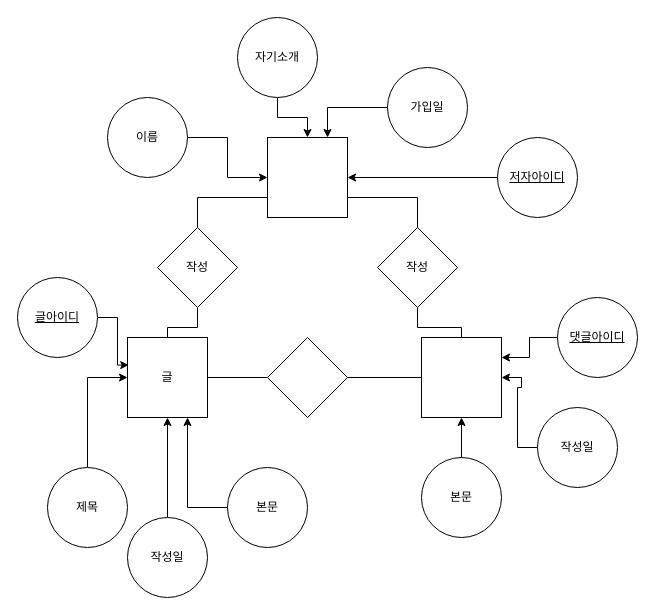
Image size: 655x615. Some labels were removed from this diagram. Each missing label, with the centre of its shape:
댓글: the point at 461,377
소속: the point at 307,377
저자: the point at 307,177
